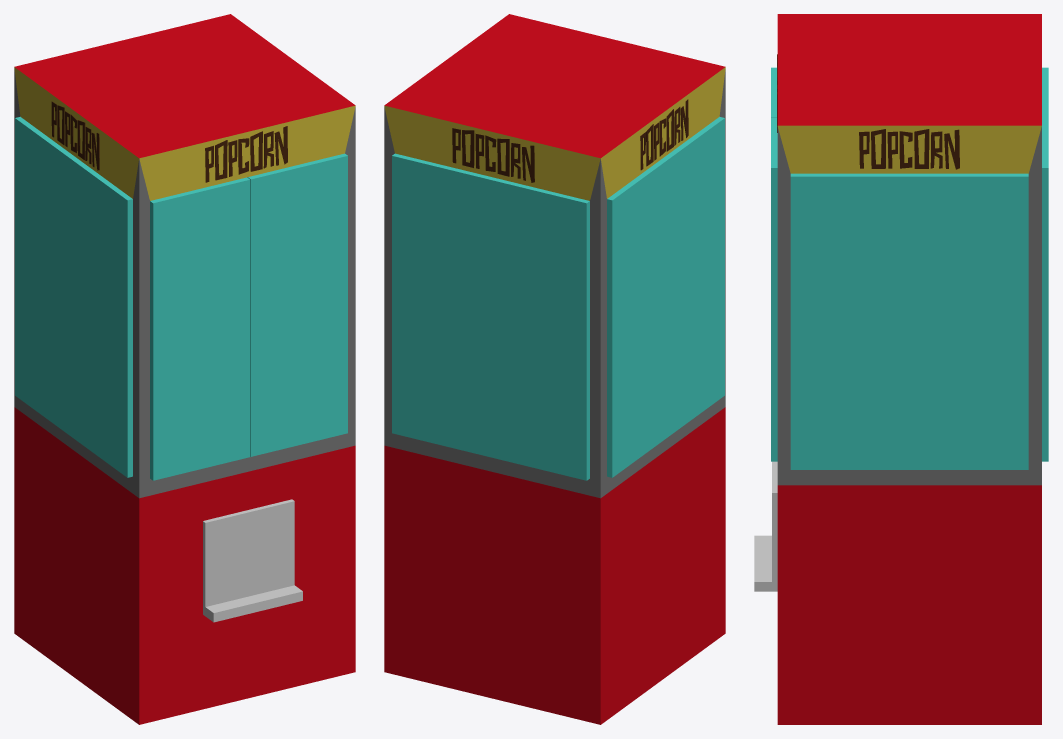
The model's file is Pop Corn Machine.fbx.
The picture shows the model from 3 angles, left to right: view 1: azimuth 30°, elevation 25°; view 2: azimuth 150°, elevation 25°; view 3: azimuth 270°, elevation 25°; orthographic projection. The views are drawn at different scales.
Visible parts, largest first — view 1: Pop Corn Machine, Glass, Left Glass Door, Right Glass Door, Lower Flap; view 2: Pop Corn Machine, Glass; view 3: Pop Corn Machine, Glass, Right Glass Door, Lower Flap.
Part boxes in pixels (bbox=[...]): Pop Corn Machine: bbox=[14, 14, 355, 724]; Glass: bbox=[15, 116, 132, 477]; Left Glass Door: bbox=[150, 177, 250, 480]; Right Glass Door: bbox=[247, 153, 347, 456]; Lower Flap: bbox=[203, 499, 302, 622]; Pop Corn Machine: bbox=[384, 14, 725, 724]; Glass: bbox=[392, 116, 724, 480]; Pop Corn Machine: bbox=[777, 14, 1041, 724]; Glass: bbox=[790, 67, 1048, 469]; Right Glass Door: bbox=[771, 118, 777, 461]; Lower Flap: bbox=[754, 461, 777, 591].
Size of the model in its own units: 840 by 2000 by 890.
